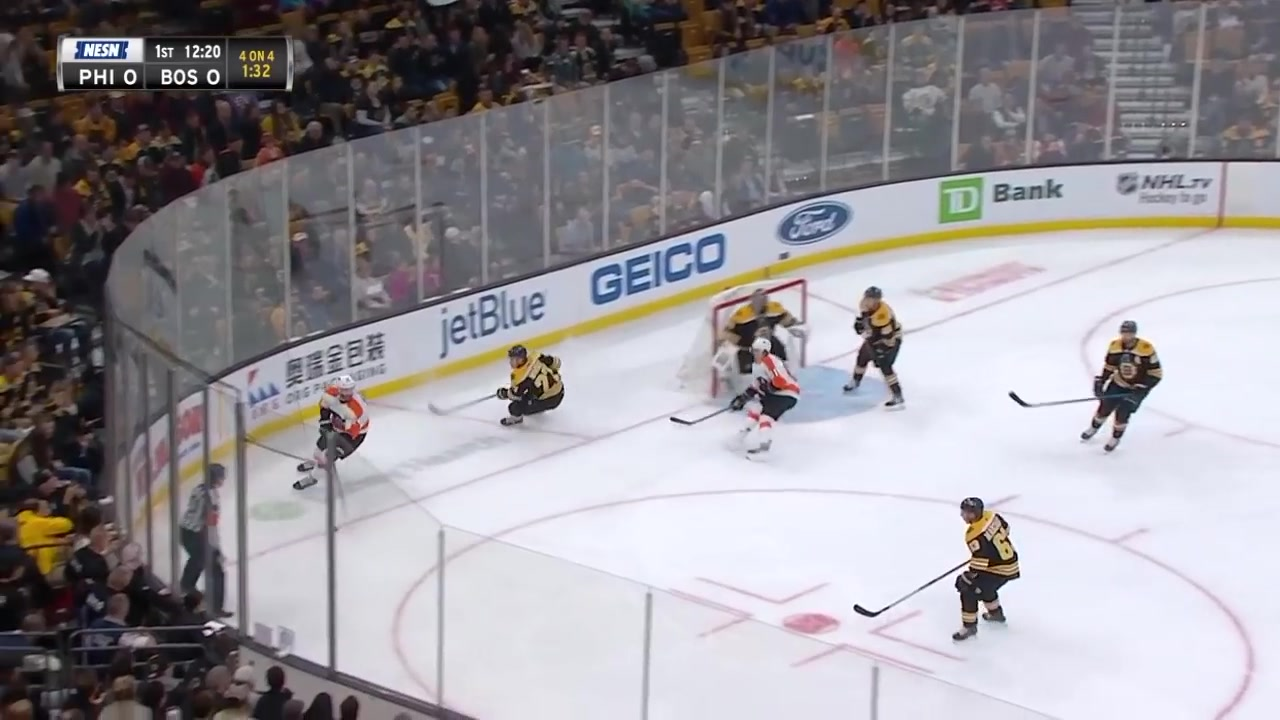Geico: (585, 235, 737, 321)
